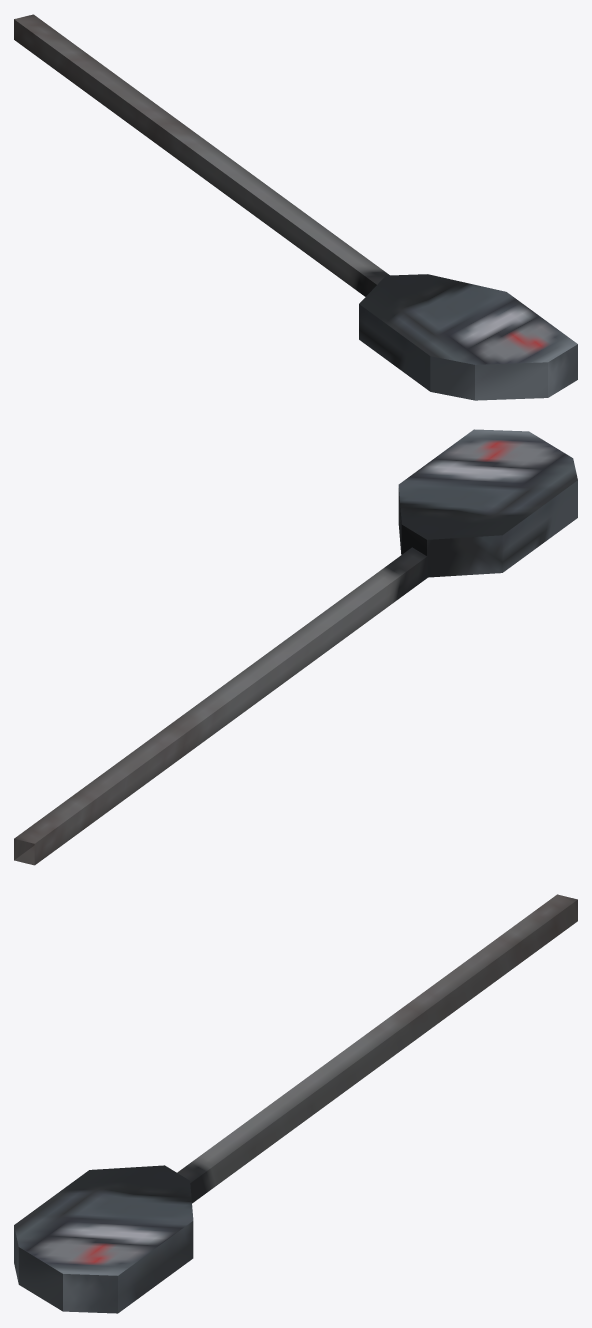
File: pz_native_street_decoration_01_6.obj
3 renders of one model, top to bottom at view 1: azimuth 30°, elevation 25°; view 2: azimuth 150°, elevation 25°; view 3: azimuth 330°, elevation 25°, orthographic. The views are drawn at different scales.
Parts seen in each view (by area): view 1: pz_native_street_decoration_01_6; view 2: pz_native_street_decoration_01_6; view 3: pz_native_street_decoration_01_6.
Part boxes in pixels (box(x1,y1,x2,y2)): pz_native_street_decoration_01_6: box(14, 14, 577, 400); pz_native_street_decoration_01_6: box(14, 429, 577, 865); pz_native_street_decoration_01_6: box(14, 894, 577, 1313).
Bounding box in the file's own units: 0.1957 × 0.0549 × 1.38.
Materials: 1 (1 with a texture image).
